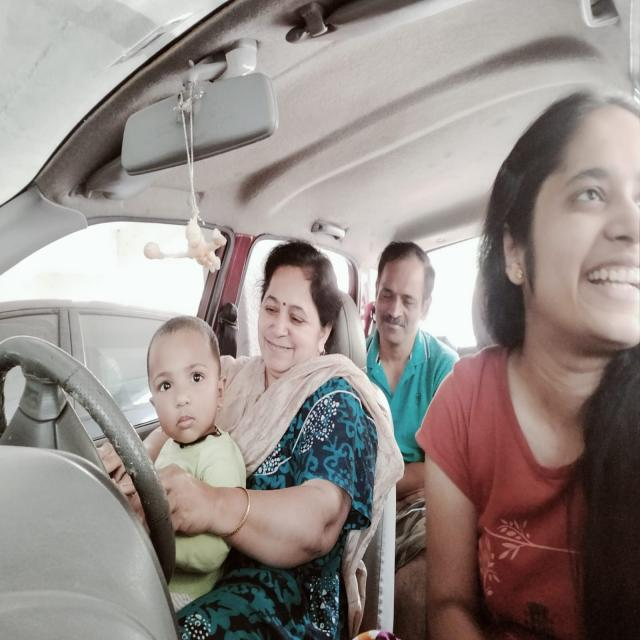child: (136, 314, 230, 456)
person: (477, 91, 640, 417), (242, 238, 349, 392), (362, 215, 442, 360)
